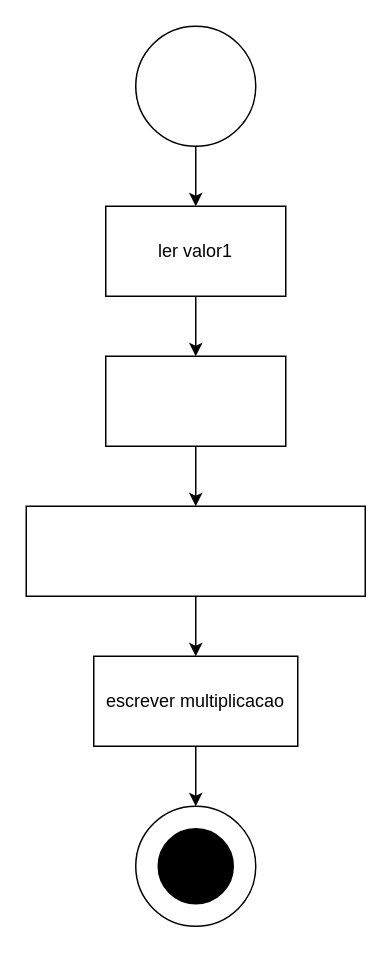
Image size: 392x953. Some labels were removed from this diagram. Here are the shapes that lost their labels. From the top down, the centre of each, then its label:
pixel 195 400: ler valor2
pixel 195 550: multiplicacao = valor1 * valor2
